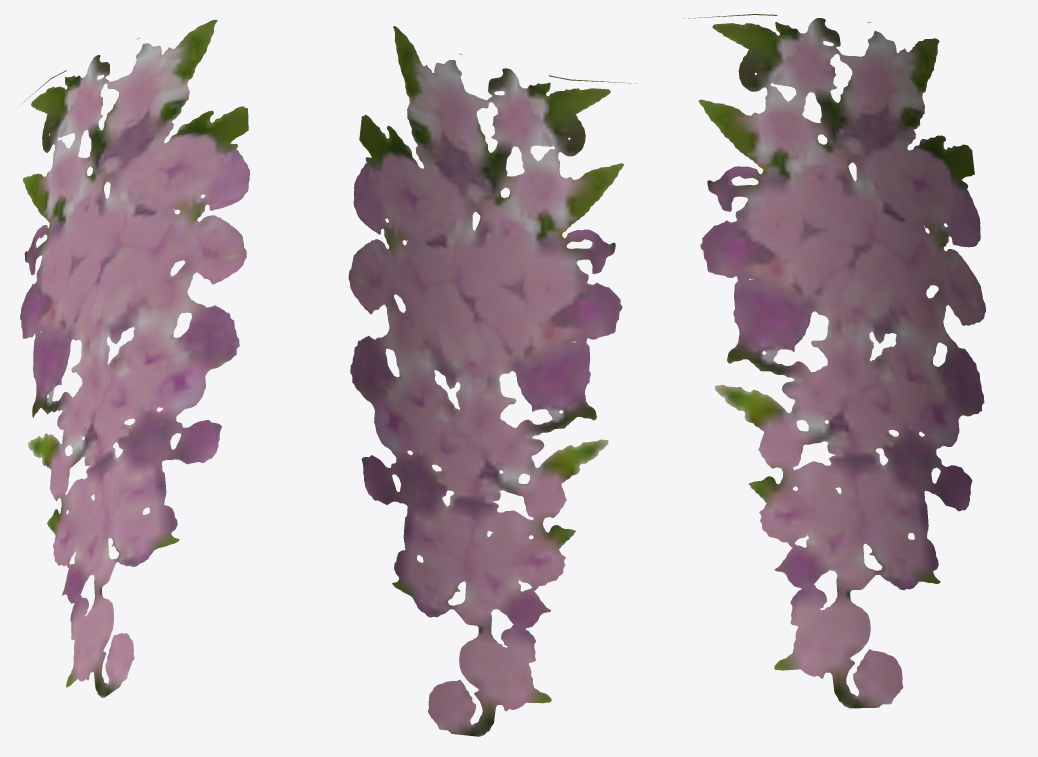
The model's file is liemo_plant_10 #65350102.fbx.
The picture shows the model from 3 angles, left to right: view 1: azimuth 30°, elevation 25°; view 2: azimuth 150°, elevation 25°; view 3: azimuth 330°, elevation 25°; orthographic projection. The views are drawn at different scales.
Visible parts, largest first — view 1: liemo_plant_10; view 2: liemo_plant_10; view 3: liemo_plant_10.
Part boxes in pixels (bbox=[...]): liemo_plant_10: bbox=[19, 19, 249, 697]; liemo_plant_10: bbox=[348, 26, 642, 736]; liemo_plant_10: bbox=[683, 14, 985, 708].
Size of the model in its own units: 0.5433 by 1.17 by 0.1495.
